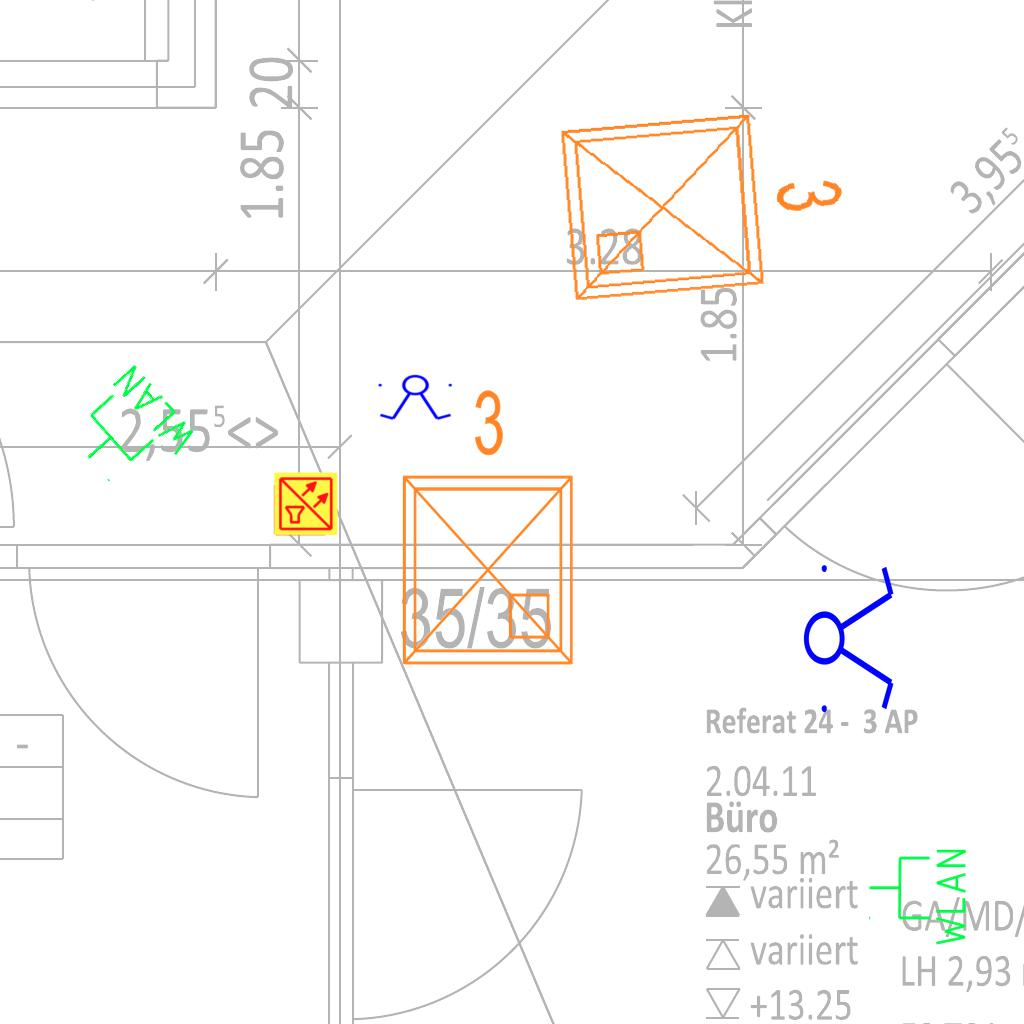Einbaudownlights_LED_Konferenzraeume: (544, 83, 862, 317), (380, 379, 588, 679)
OKW_Multisensormelder_(Kombination_optischer_Rauch-Kahlenmonoxid_Waerme-Melder): (273, 471, 339, 537)
Serienschalter: (802, 553, 898, 721), (374, 374, 458, 422)
WLAN: (57, 358, 205, 507), (866, 845, 970, 950)
